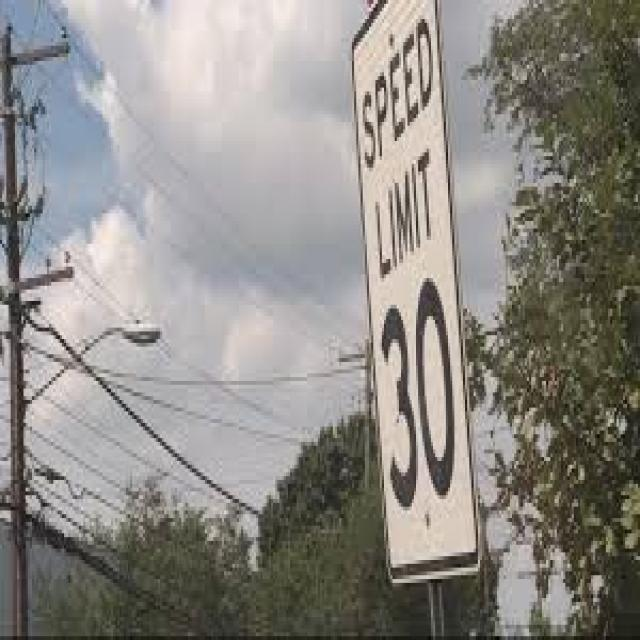speedLimit30: (351, 2, 481, 592)
